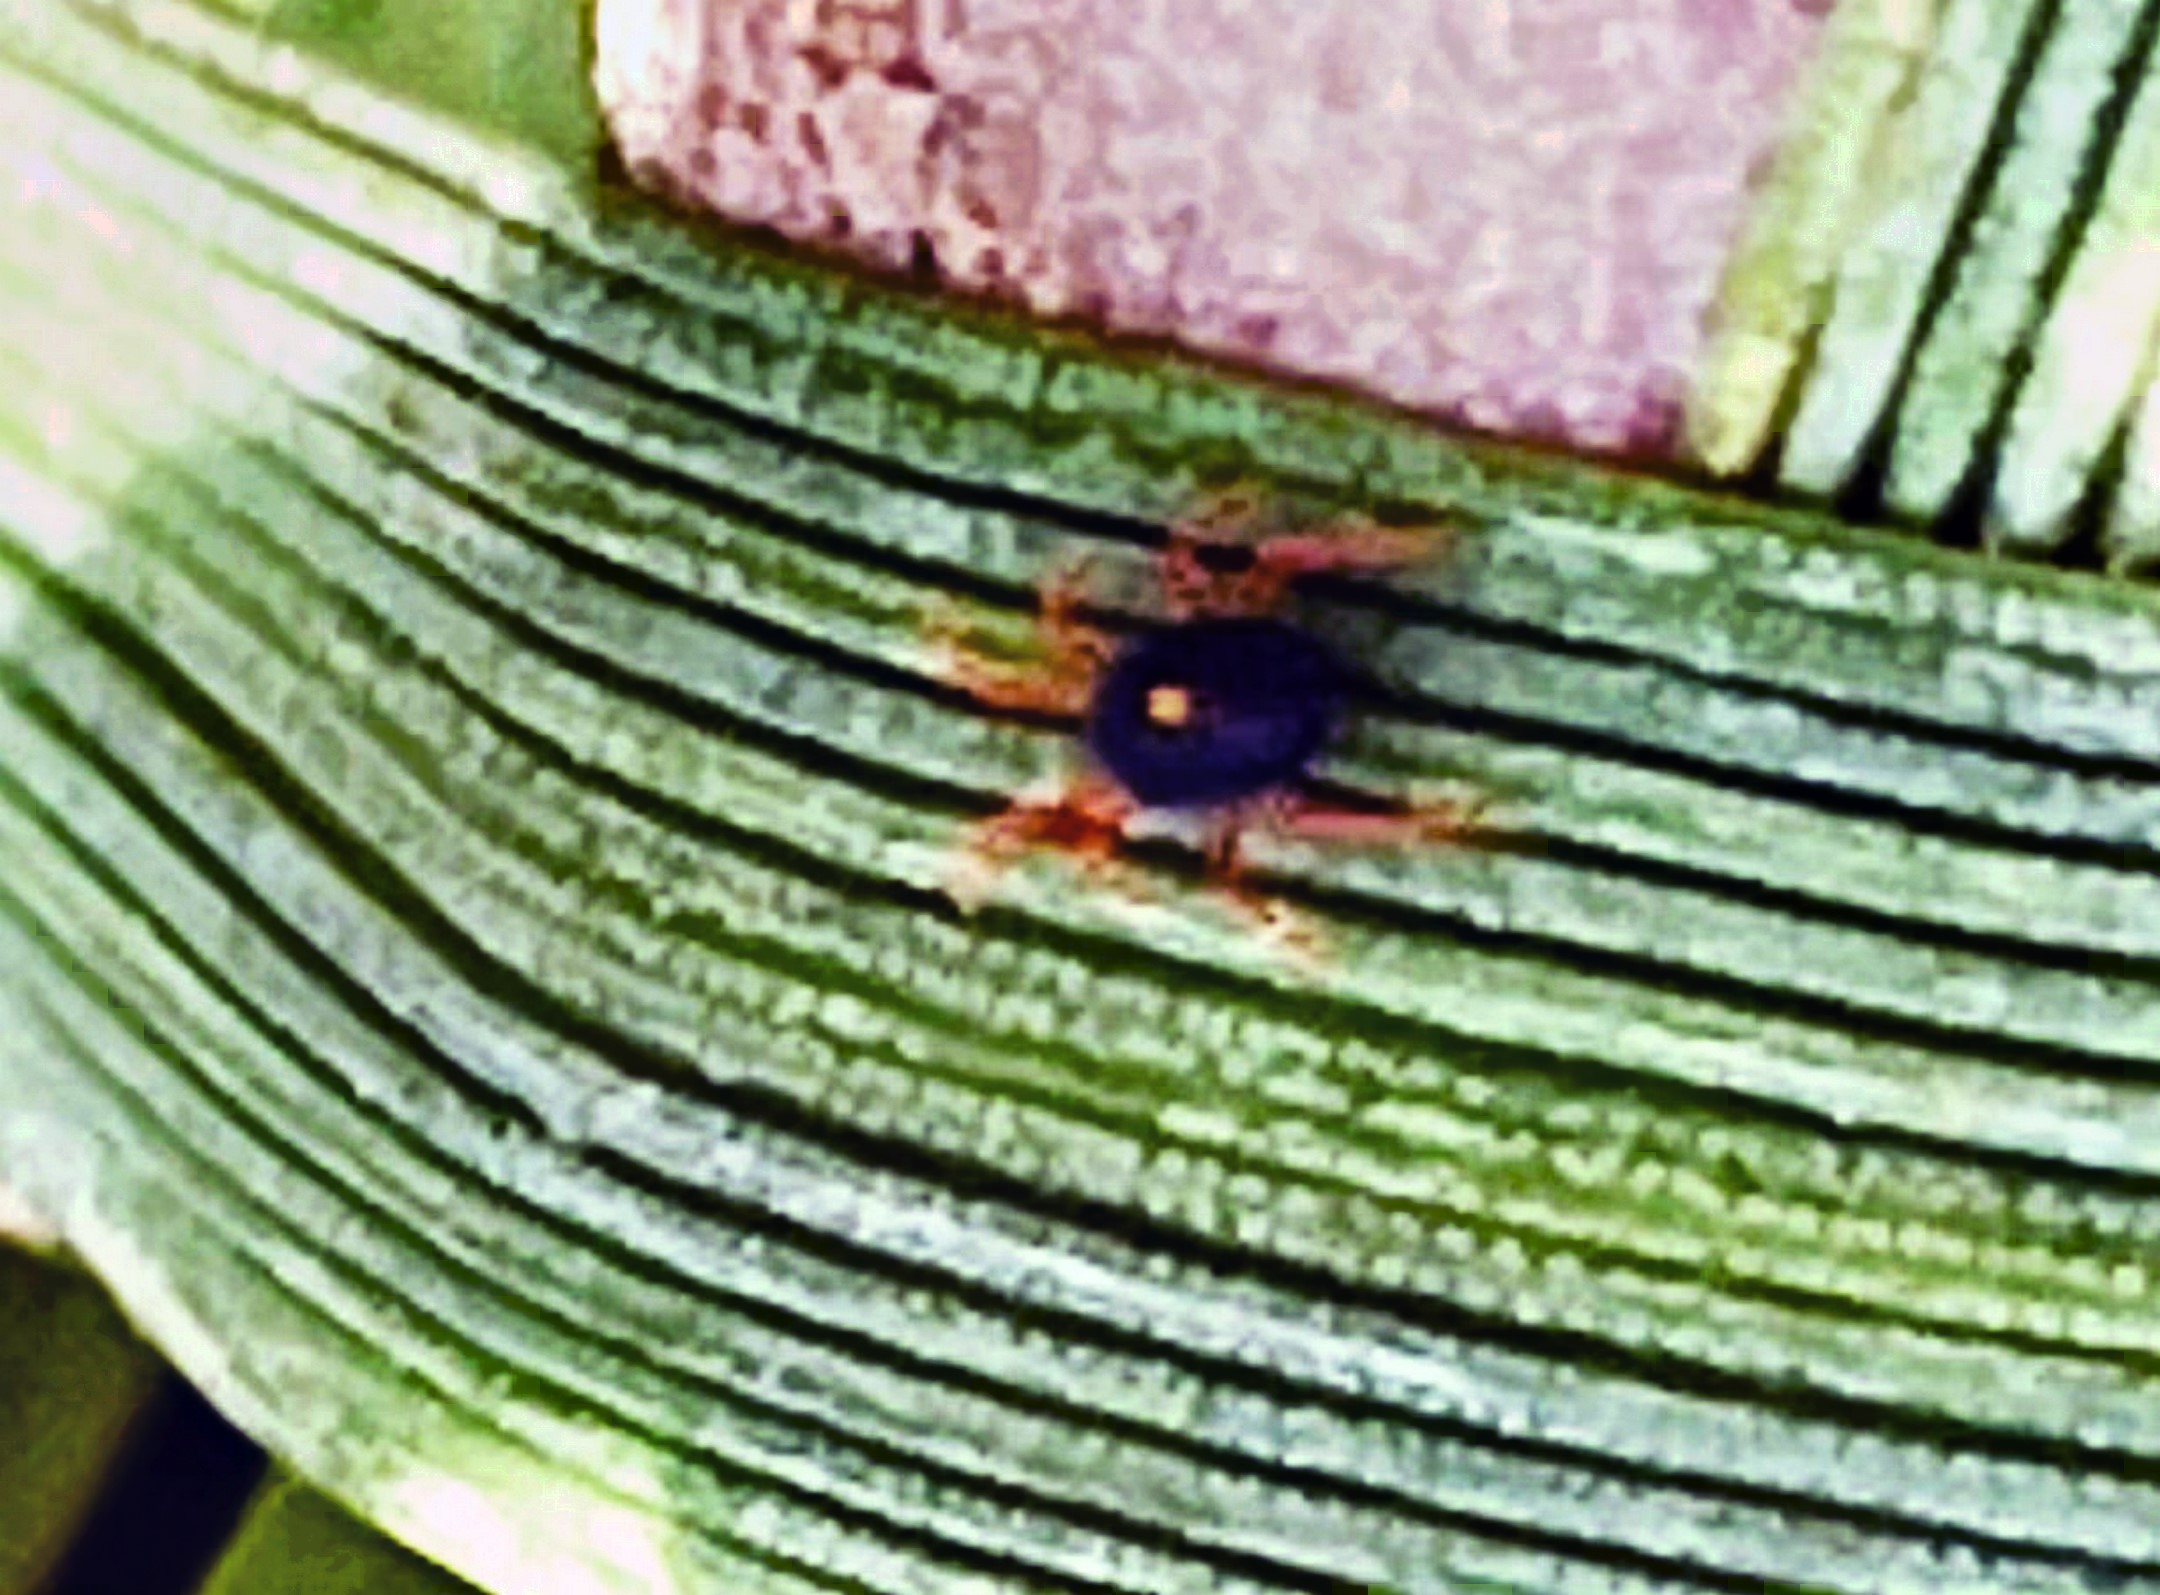Wheat Red Spider: (832, 438, 1508, 959)
